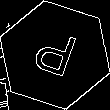P_S: (29, 25, 81, 85)
